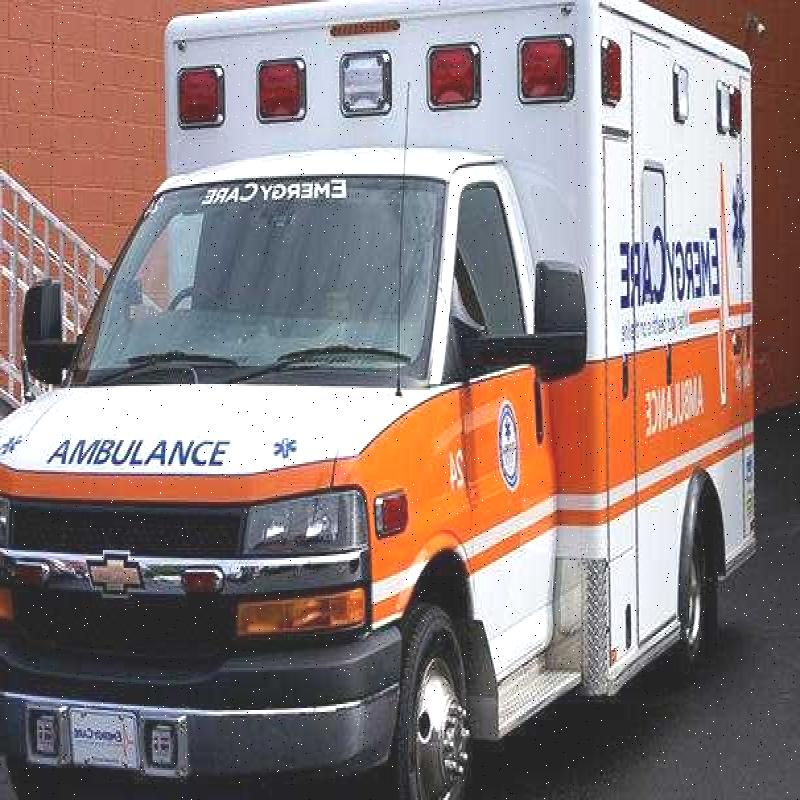AmbulanceSiren: (160, 13, 588, 146)
